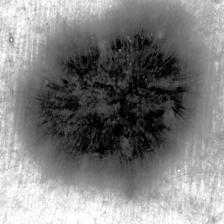Benign Marking or Mole: (21, 4, 206, 194)
